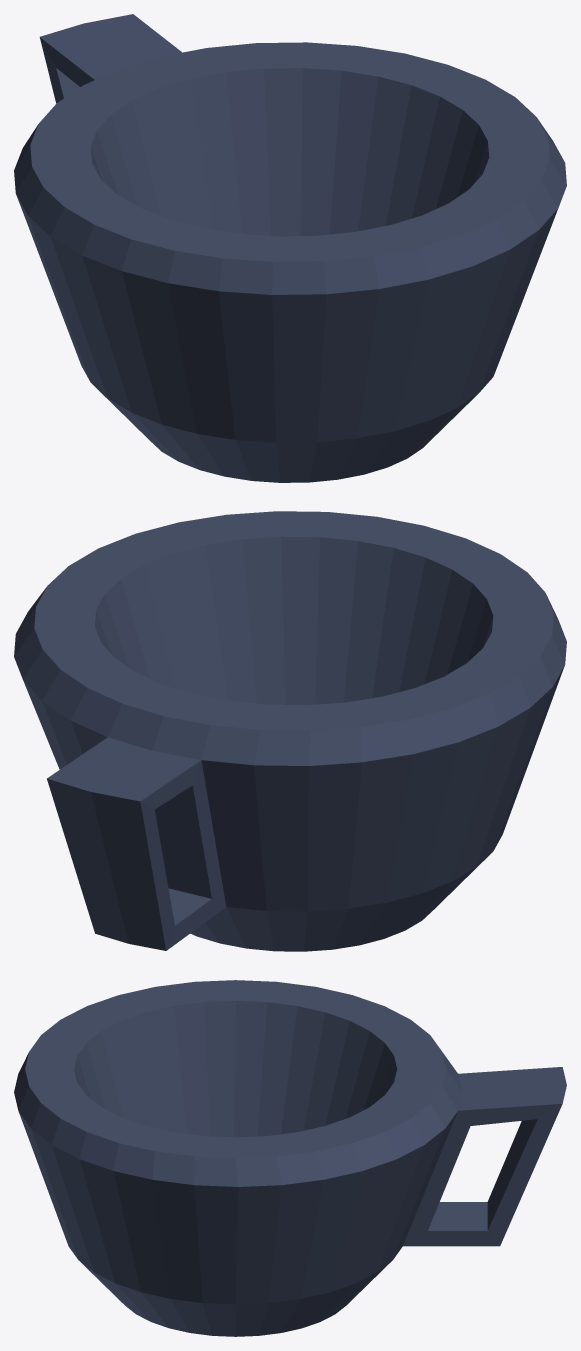
File: Krushka.fbx
The picture shows the model from 3 angles, top to bottom: view 1: azimuth 30°, elevation 25°; view 2: azimuth 150°, elevation 25°; view 3: azimuth 270°, elevation 25°; orthographic projection. The views are drawn at different scales.
Parts seen in each view (by area): view 1: Cylinder; view 2: Cylinder; view 3: Cylinder.
Part boxes in pixels (x1=…): Cylinder: x1=14, y1=14, x2=566, y2=482; Cylinder: x1=14, y1=511, x2=566, y2=951; Cylinder: x1=14, y1=980, x2=566, y2=1336.
Size of the model in its own units: 374 by 200 by 462.
